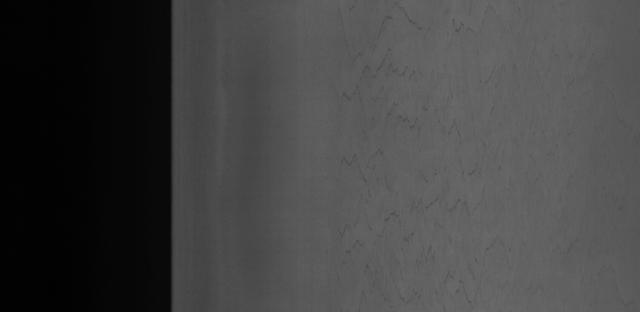silk_spot: (318, 24, 493, 286)
